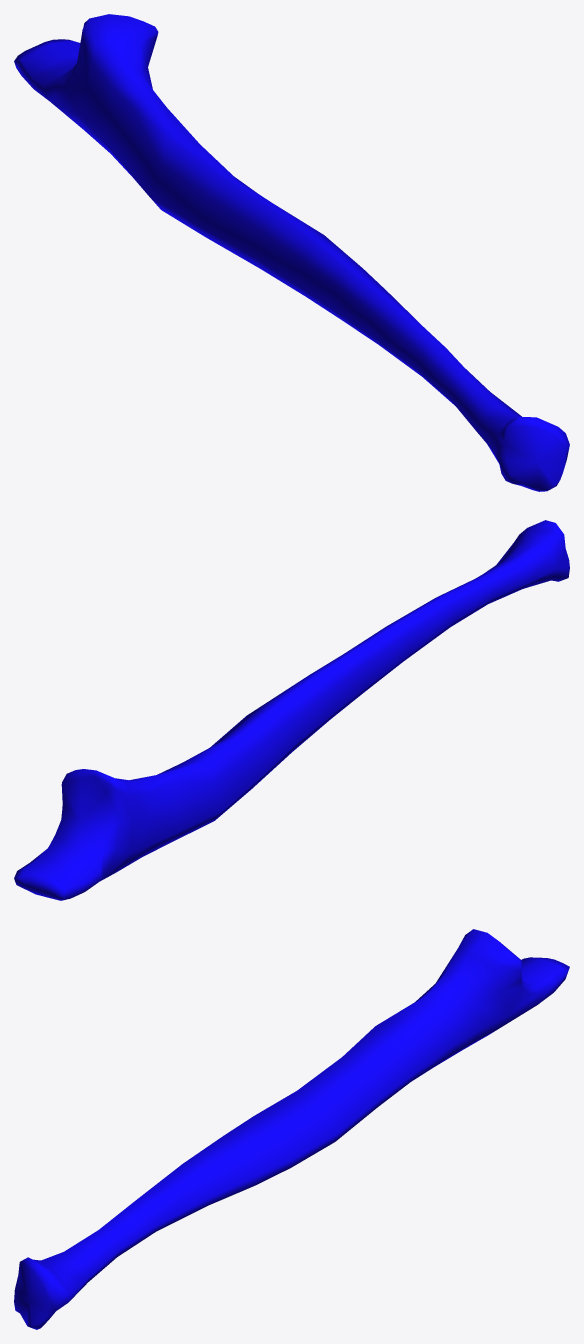
Rendered from SM_R_Radius.FBX.
3 renders of one model, top to bottom at view 1: azimuth 30°, elevation 25°; view 2: azimuth 150°, elevation 25°; view 3: azimuth 330°, elevation 25°, orthographic. The views are drawn at different scales.
Parts seen in each view (by area): view 1: R_Radius; view 2: R_Radius; view 3: R_Radius.
Part boxes in pixels (x1,y1,x2,y2): R_Radius: (14, 14, 569, 491); R_Radius: (14, 520, 569, 900); R_Radius: (14, 929, 569, 1329).
Bounding box in the file's own units: 4.19 × 3.92 × 33.4.
